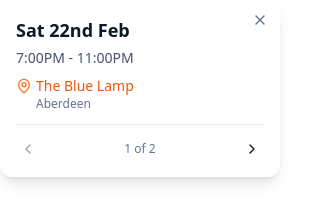
Test: EventMarkerPopup › Multiple events navigation › disables next button on last event
// Go to last event
Click the button named "next" at (252, 149), box [240,137,264,161]
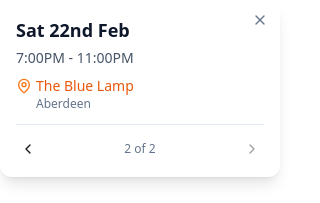
expect the button named "next" is disabled: met, box [240,137,264,161]
